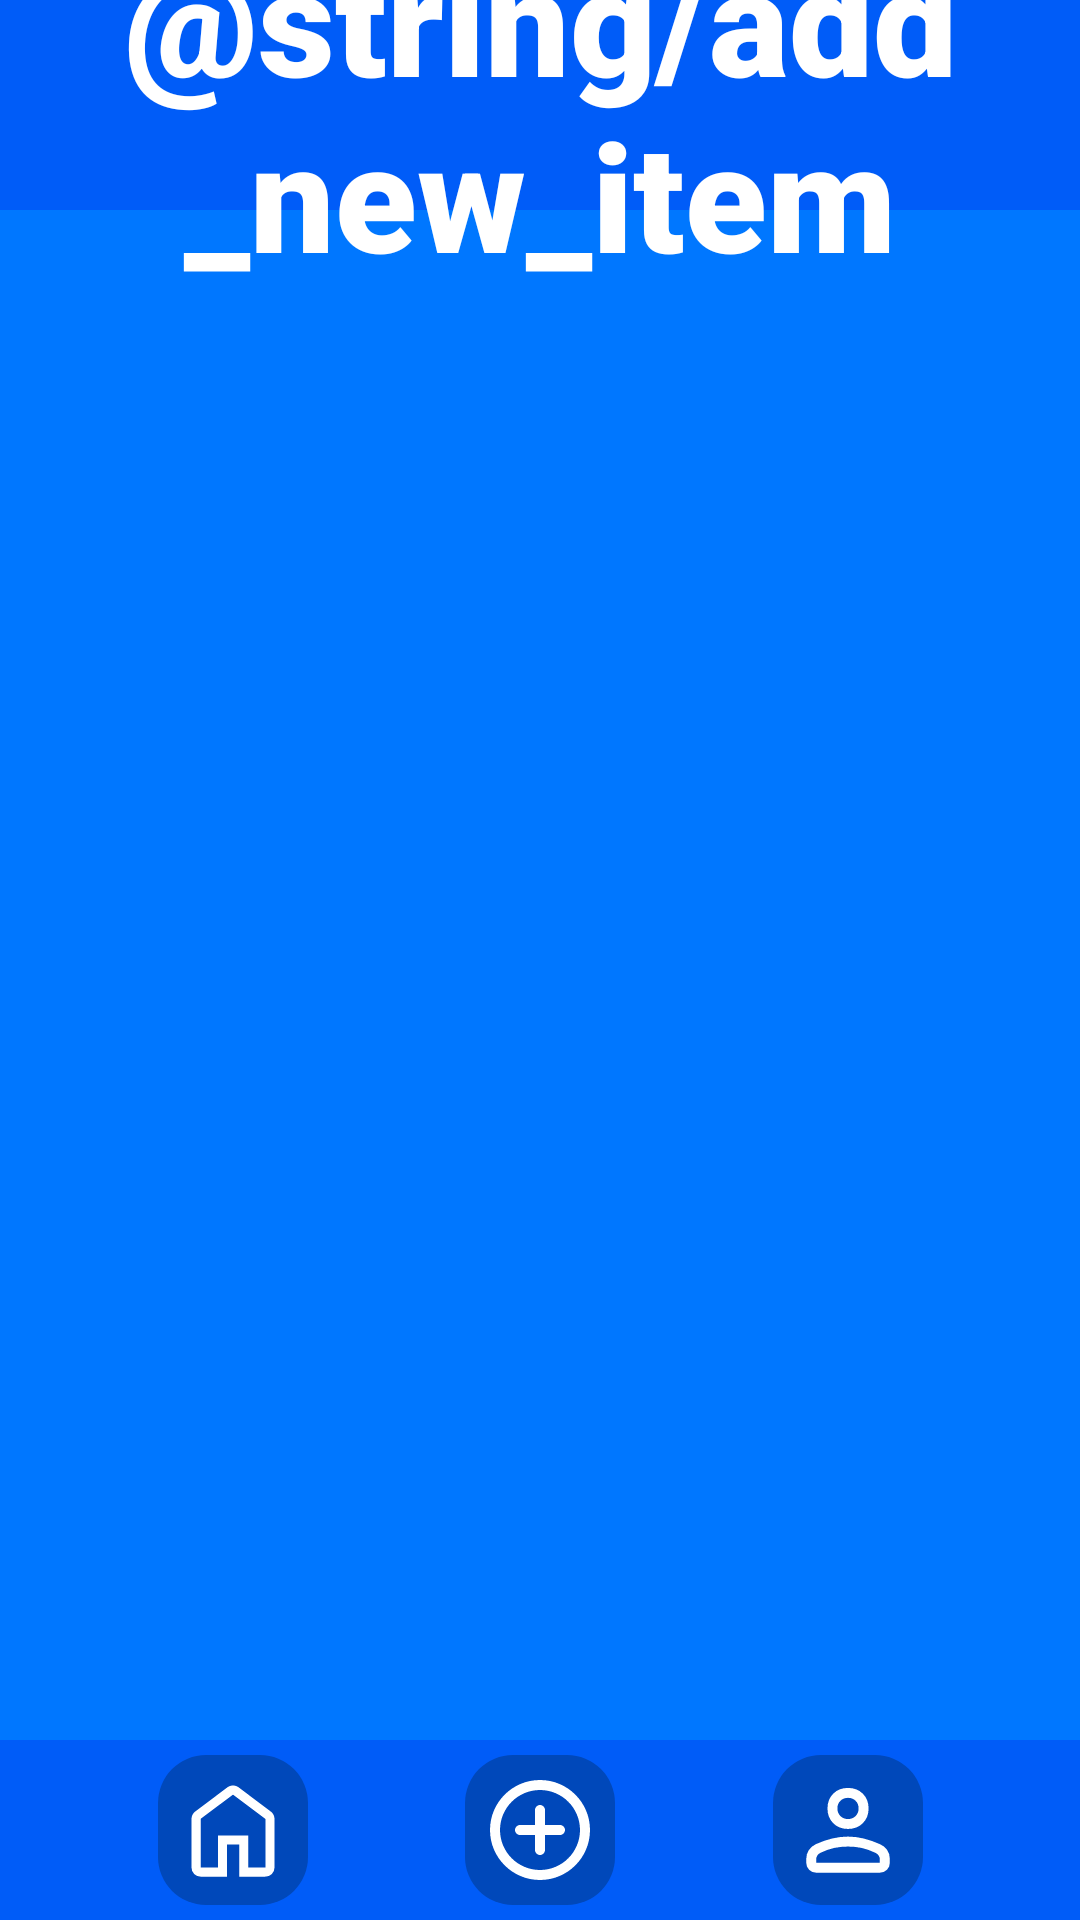

Where icons sit on this 1080×1920 app screen, as [left=x1, top=y1, right=x2, bottom=y2]:
add: [left=465, top=1755, right=615, bottom=1905]
home: [left=158, top=1755, right=308, bottom=1905]
person: [left=773, top=1755, right=923, bottom=1905]
